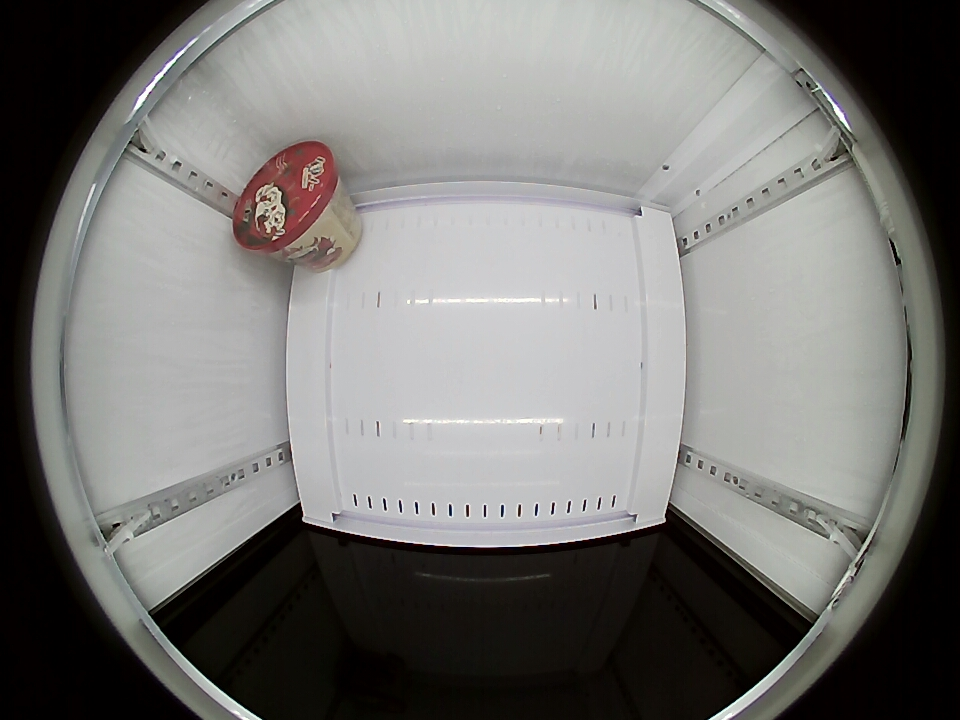suanlafen: (233, 142, 342, 258)
